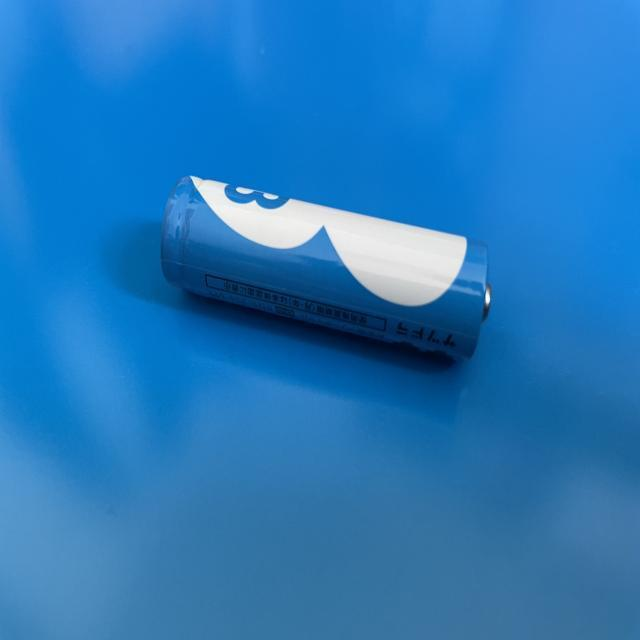AA: (156, 175, 494, 368)
